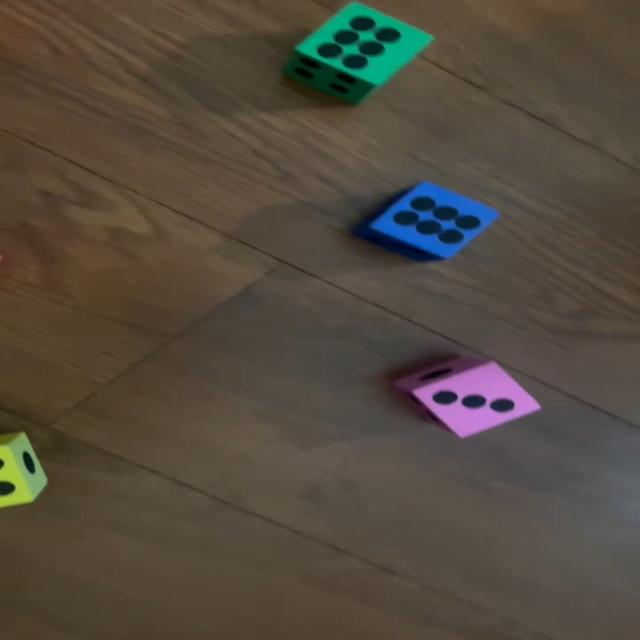blue_block: (345, 181, 503, 263)
